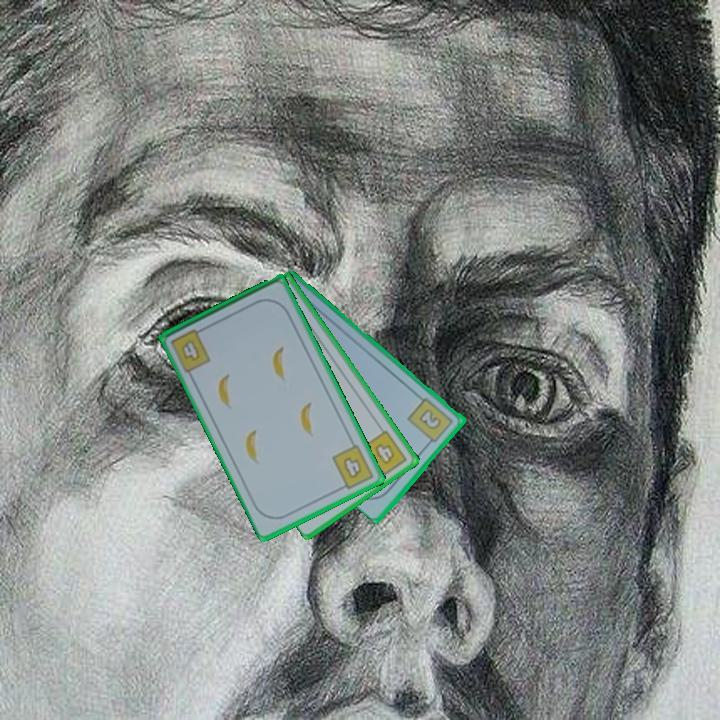2b: (404, 394, 457, 449)
4b: (360, 427, 410, 481), (329, 441, 377, 494), (167, 324, 214, 374)
